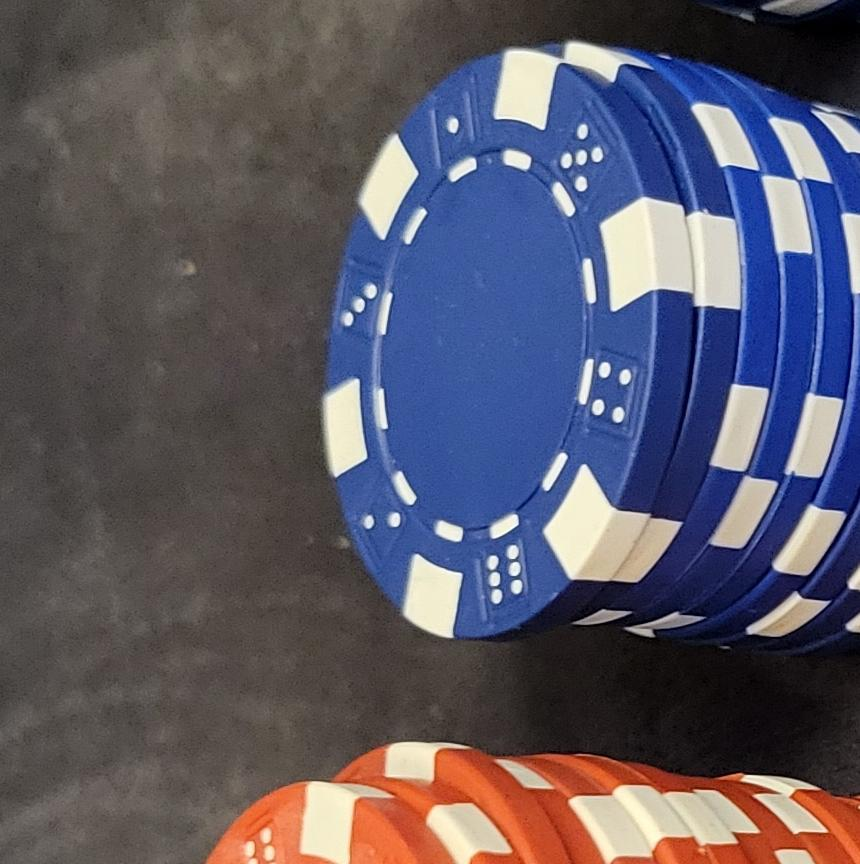Chip: (1, 271, 379, 864)
